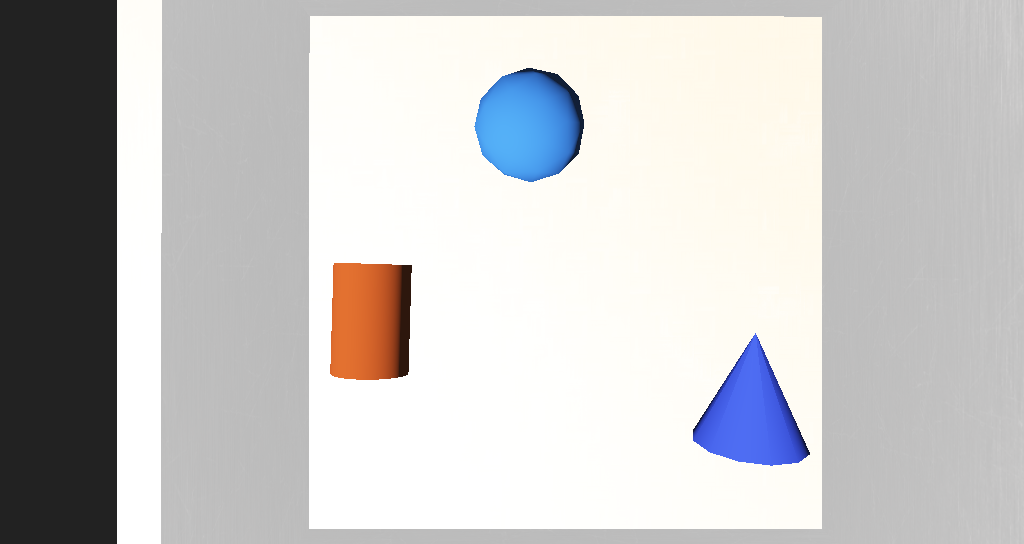cone: (364, 262, 418, 310)
cylinder: (576, 286, 650, 344)
sphere: (455, 188, 515, 231)
